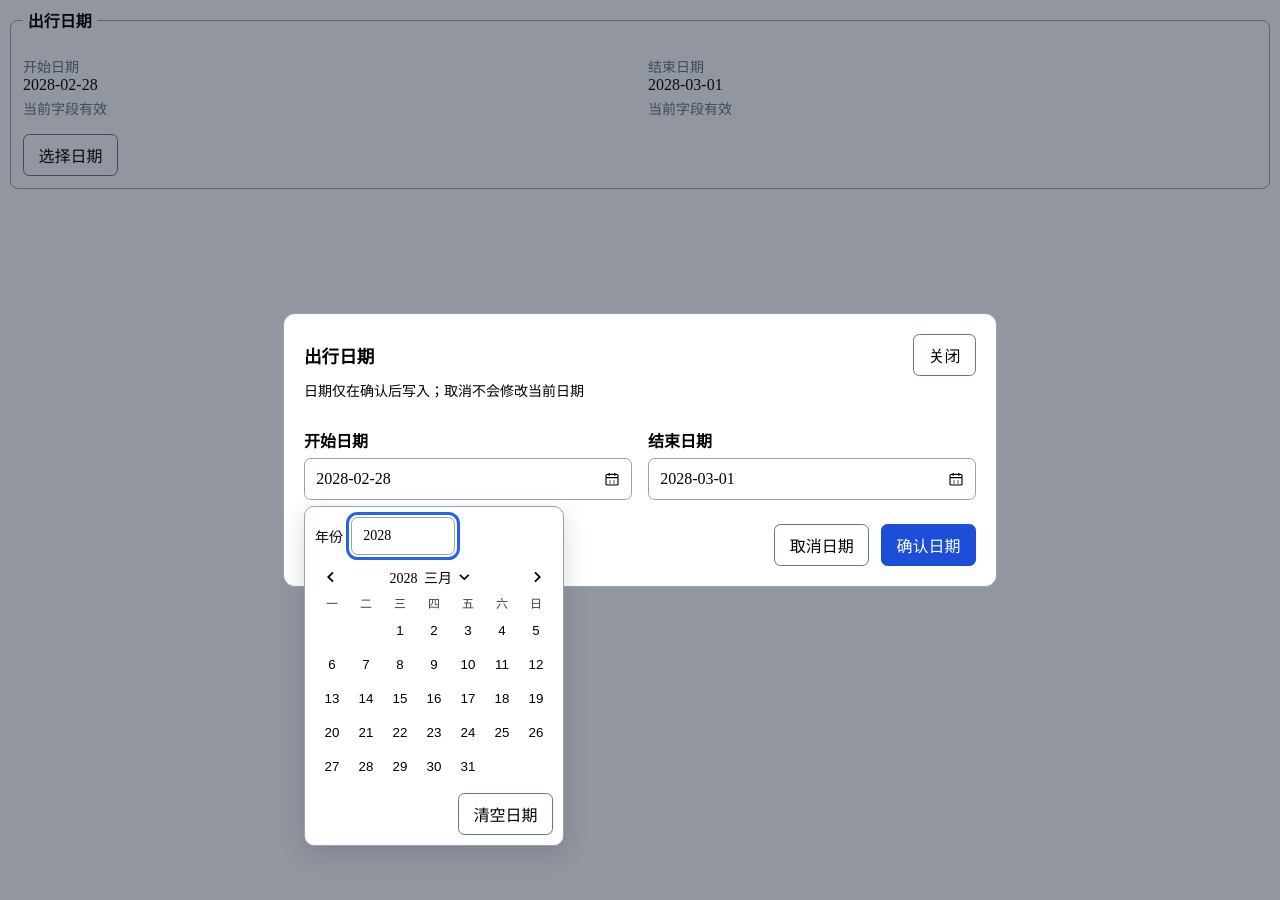
reports a partial write and rereads actual endpoints after the second set fails
Earlier steps of the test are not shown.
Click the button "2".
click(434, 630)  # box x1=418 y1=614 x2=450 y2=646
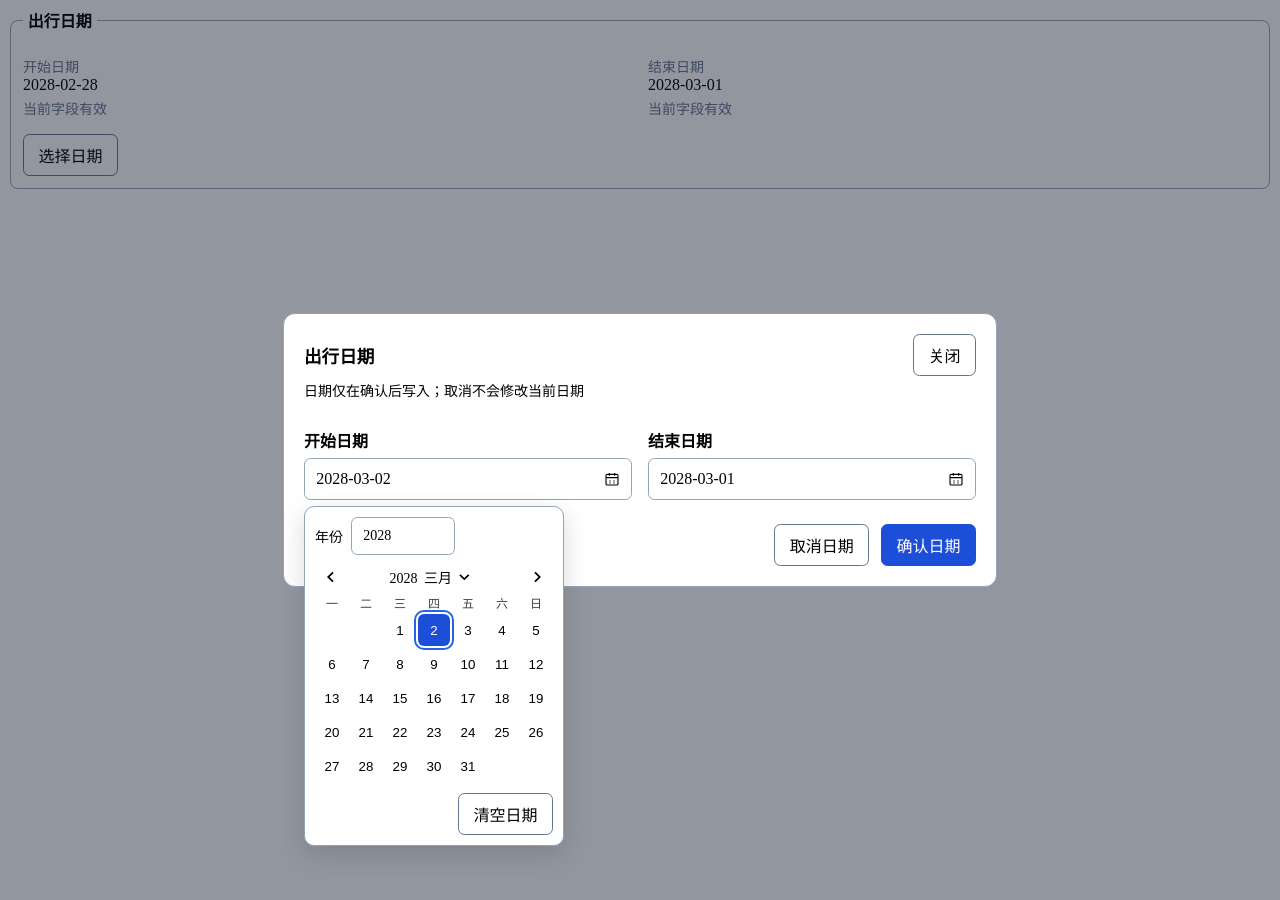
Click the button "2028-03-01".
click(698, 479)  # box x1=648 y1=458 x2=976 y2=500
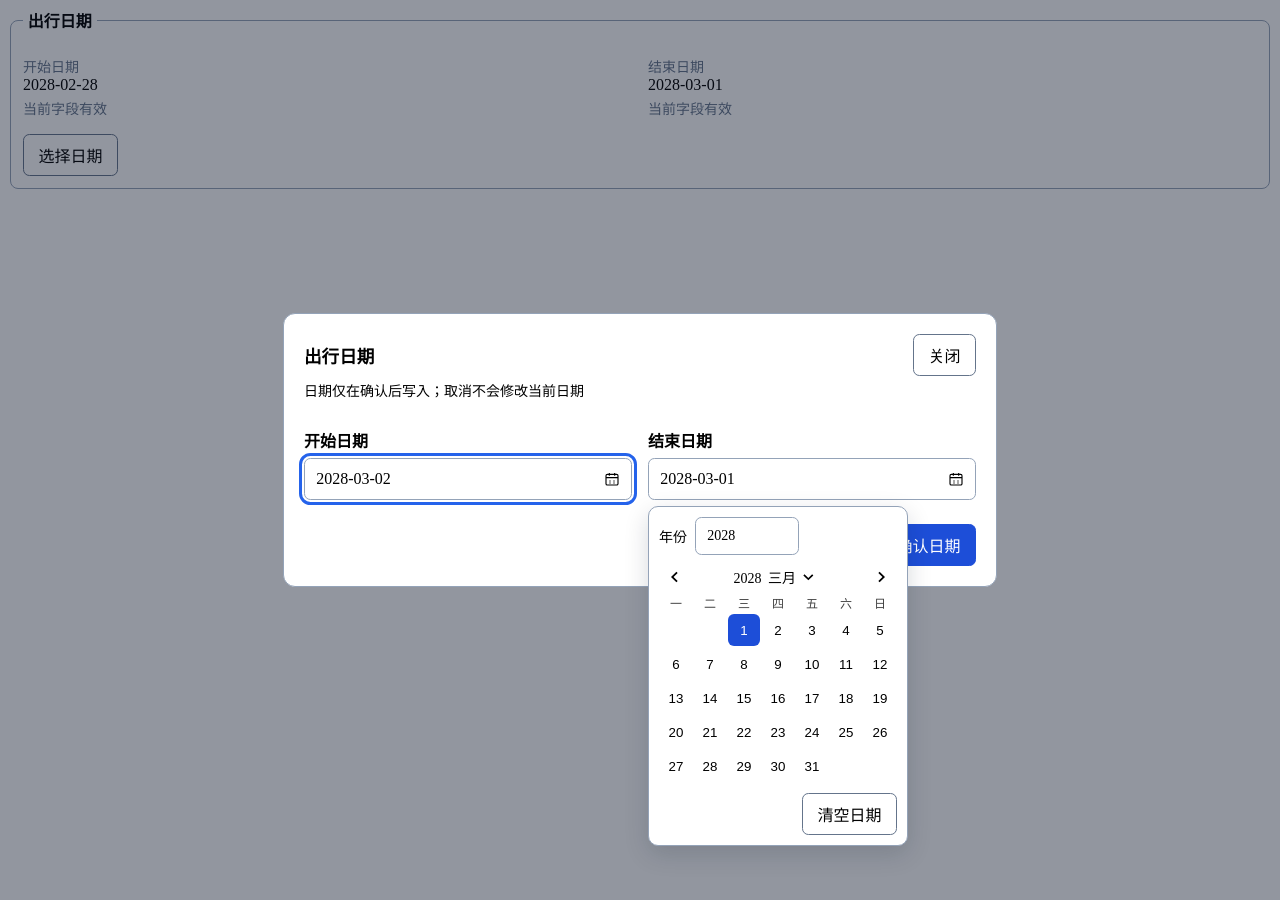
Click the button "3".
click(812, 630)  # box x1=796 y1=614 x2=828 y2=646
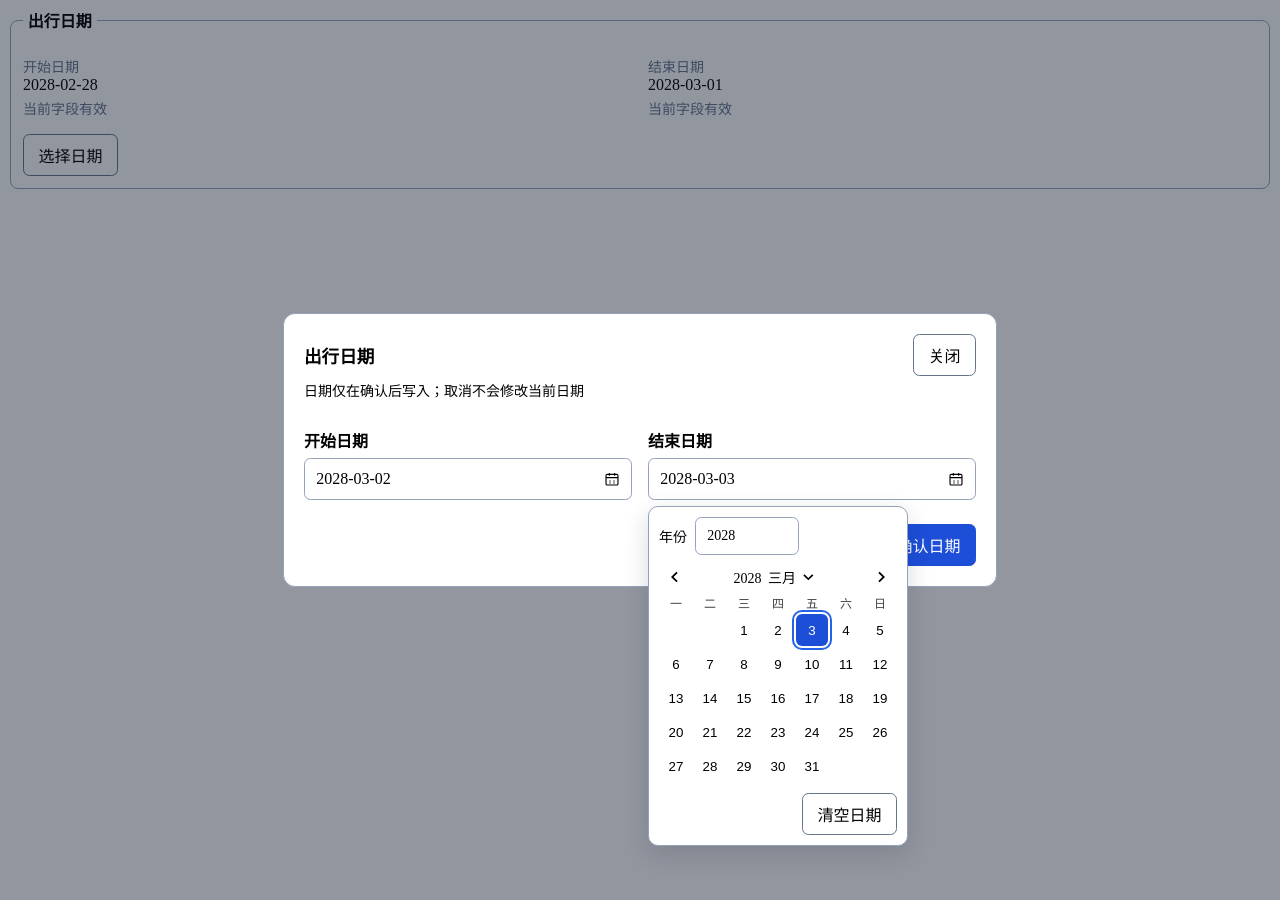
Click the button "确认日期".
click(929, 545)  # box x1=881 y1=524 x2=976 y2=566
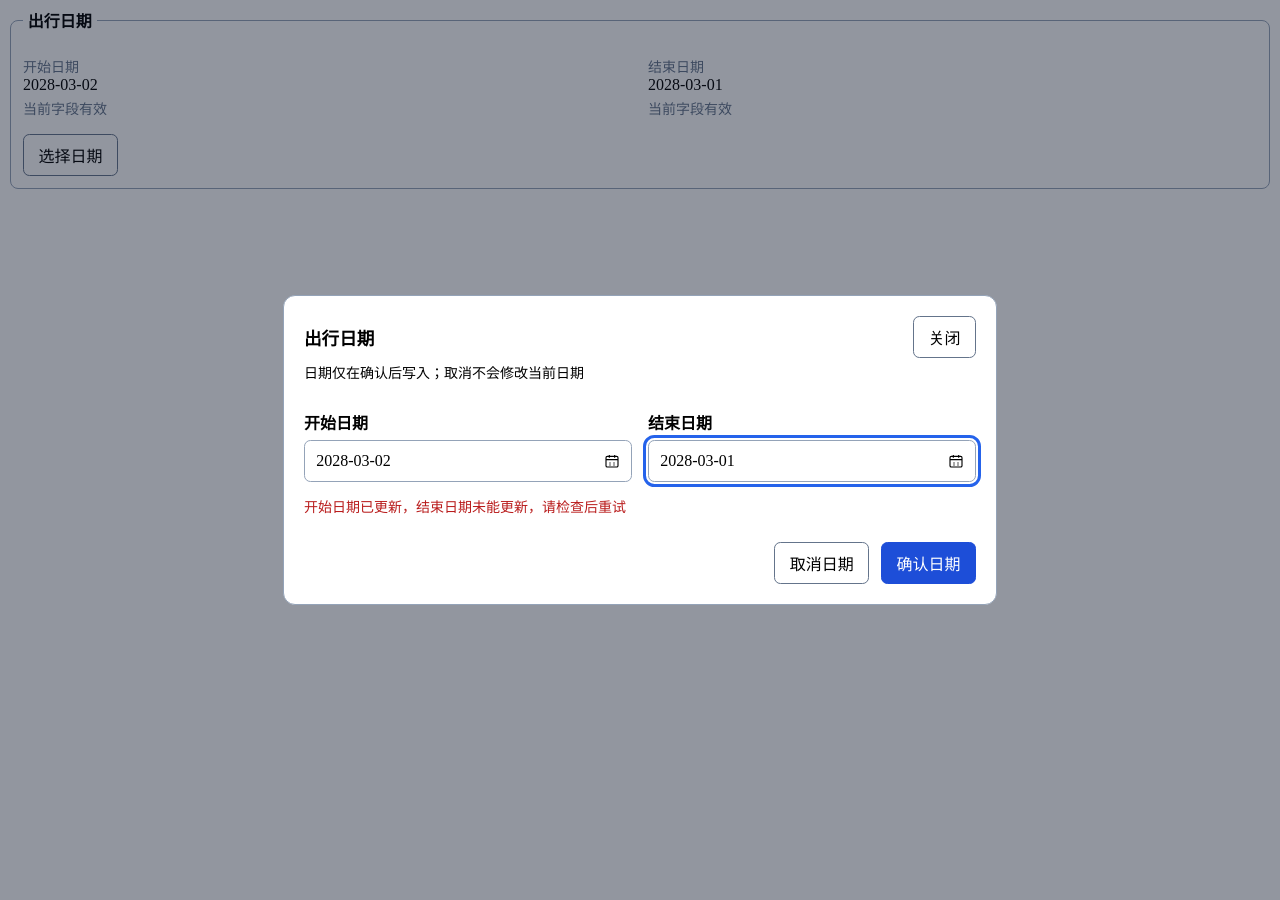
Expected: the dialog "出行日期" is shown, x1=283 y1=295 x2=997 y2=605
Expected: the message shows "结束日期未能更新", x1=304 y1=500 x2=626 y2=515
